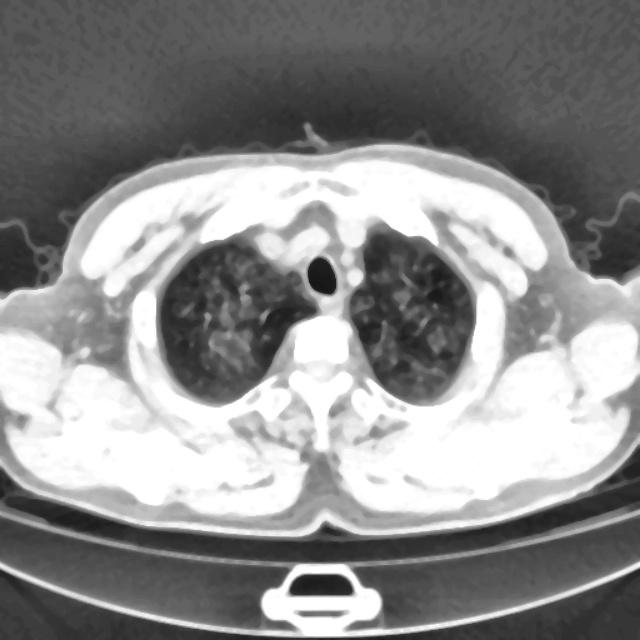covid: (0, 128, 639, 541)
